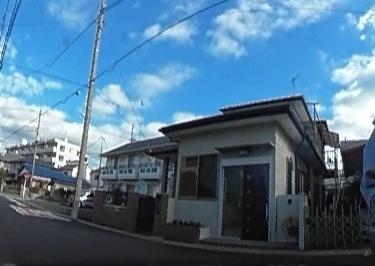person: (367, 14, 375, 260)
